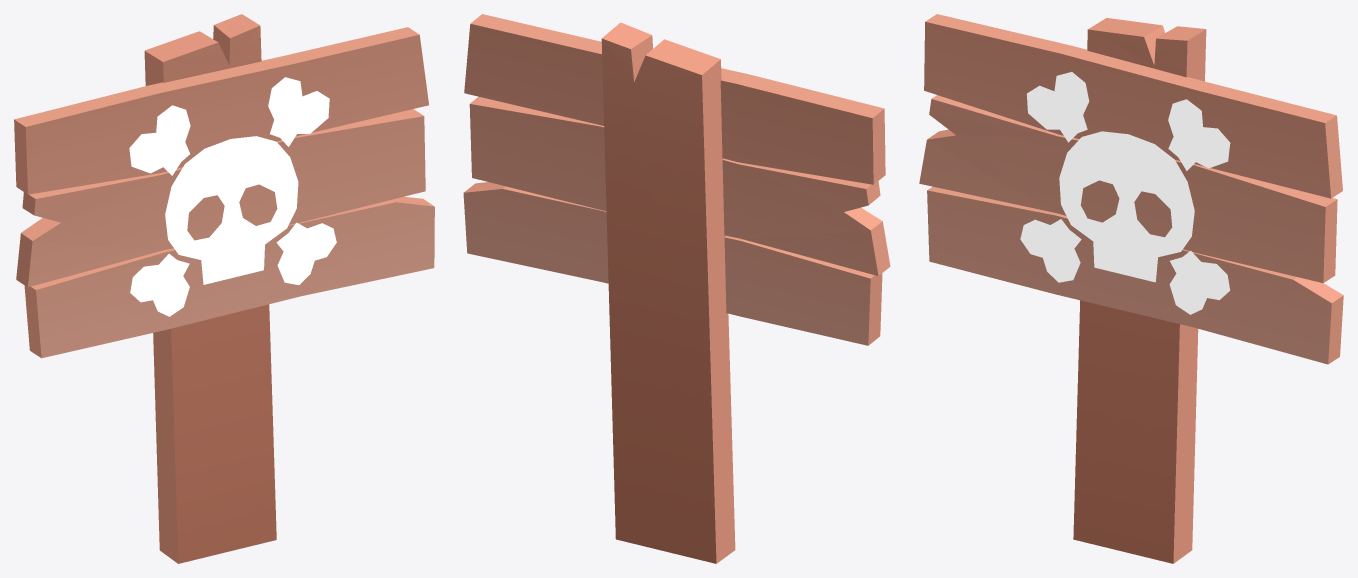
The model's file is indicator_004.glb.
The picture shows the model from 3 angles, left to right: view 1: azimuth 30°, elevation 25°; view 2: azimuth 150°, elevation 25°; view 3: azimuth 330°, elevation 25°; orthographic projection. The views are drawn at different scales.
Parts seen in each view (by area): view 1: indicator_004; view 2: indicator_004; view 3: indicator_004.
Boxes of the visible parts, x1,y1,x2,y2 form: indicator_004: [14, 14, 434, 563]; indicator_004: [463, 14, 890, 563]; indicator_004: [919, 14, 1343, 563].
Bounding box in the file's own units: 1.19 × 1.41 × 0.1858.
Materials: 1 (1 with a texture image).
